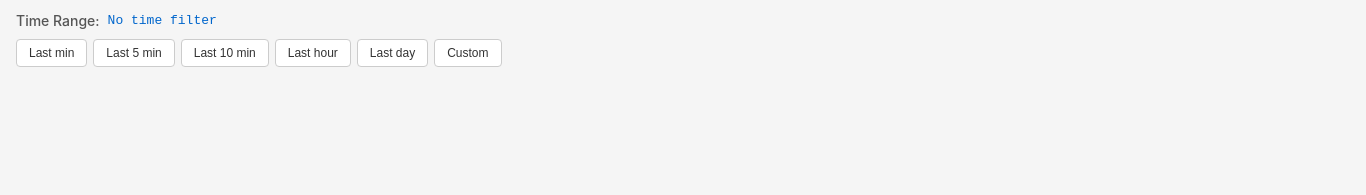
it: TimeFilter › custom filter › hides custom inputs when Custom is clicked again
The image size is (1366, 195).
Step 1. Click the button "Custom" → (468, 53), box [434,39,502,67]
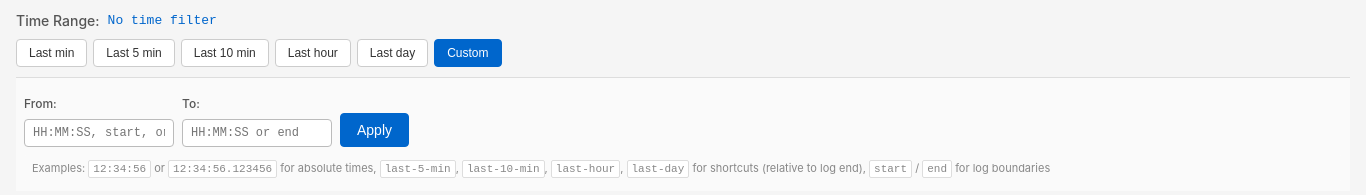
Step 2. Click the button "Custom" → (468, 53), box [434,39,502,67]
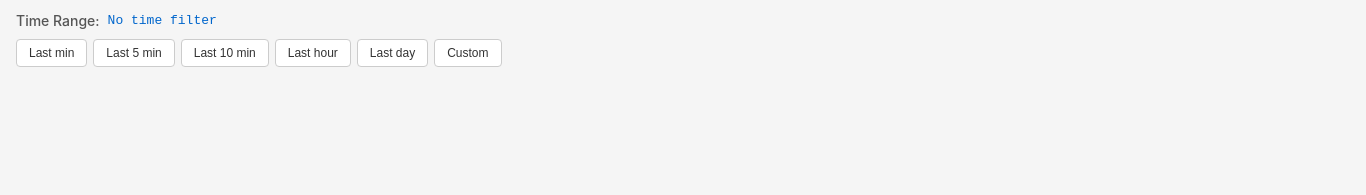
Now the label labelled "From:" is gone
